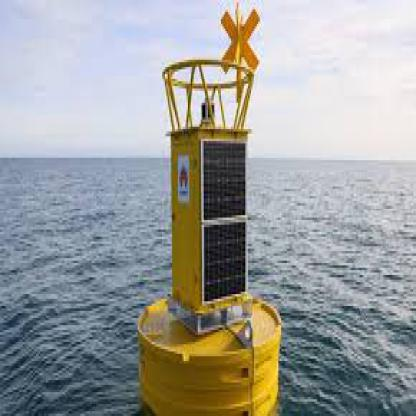buoy: (131, 0, 288, 414)
